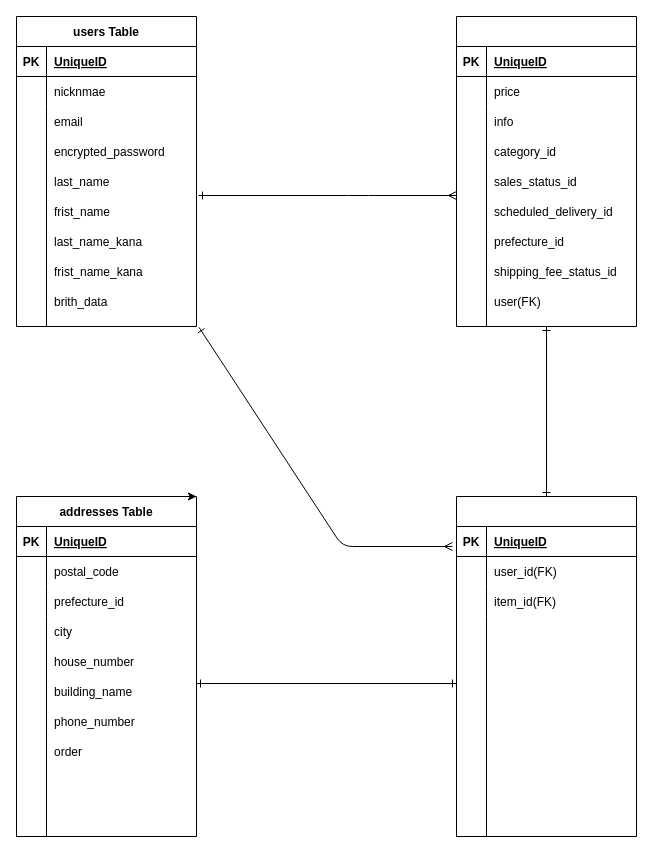
Some shapes in this 653 by 853 pixel diagram are drawn without their labels. Here are the shapes that lost their labels. From the top down, the box of each, then its label:
(456, 16, 636, 326): itemsTable
(456, 496, 636, 836): orders Table
